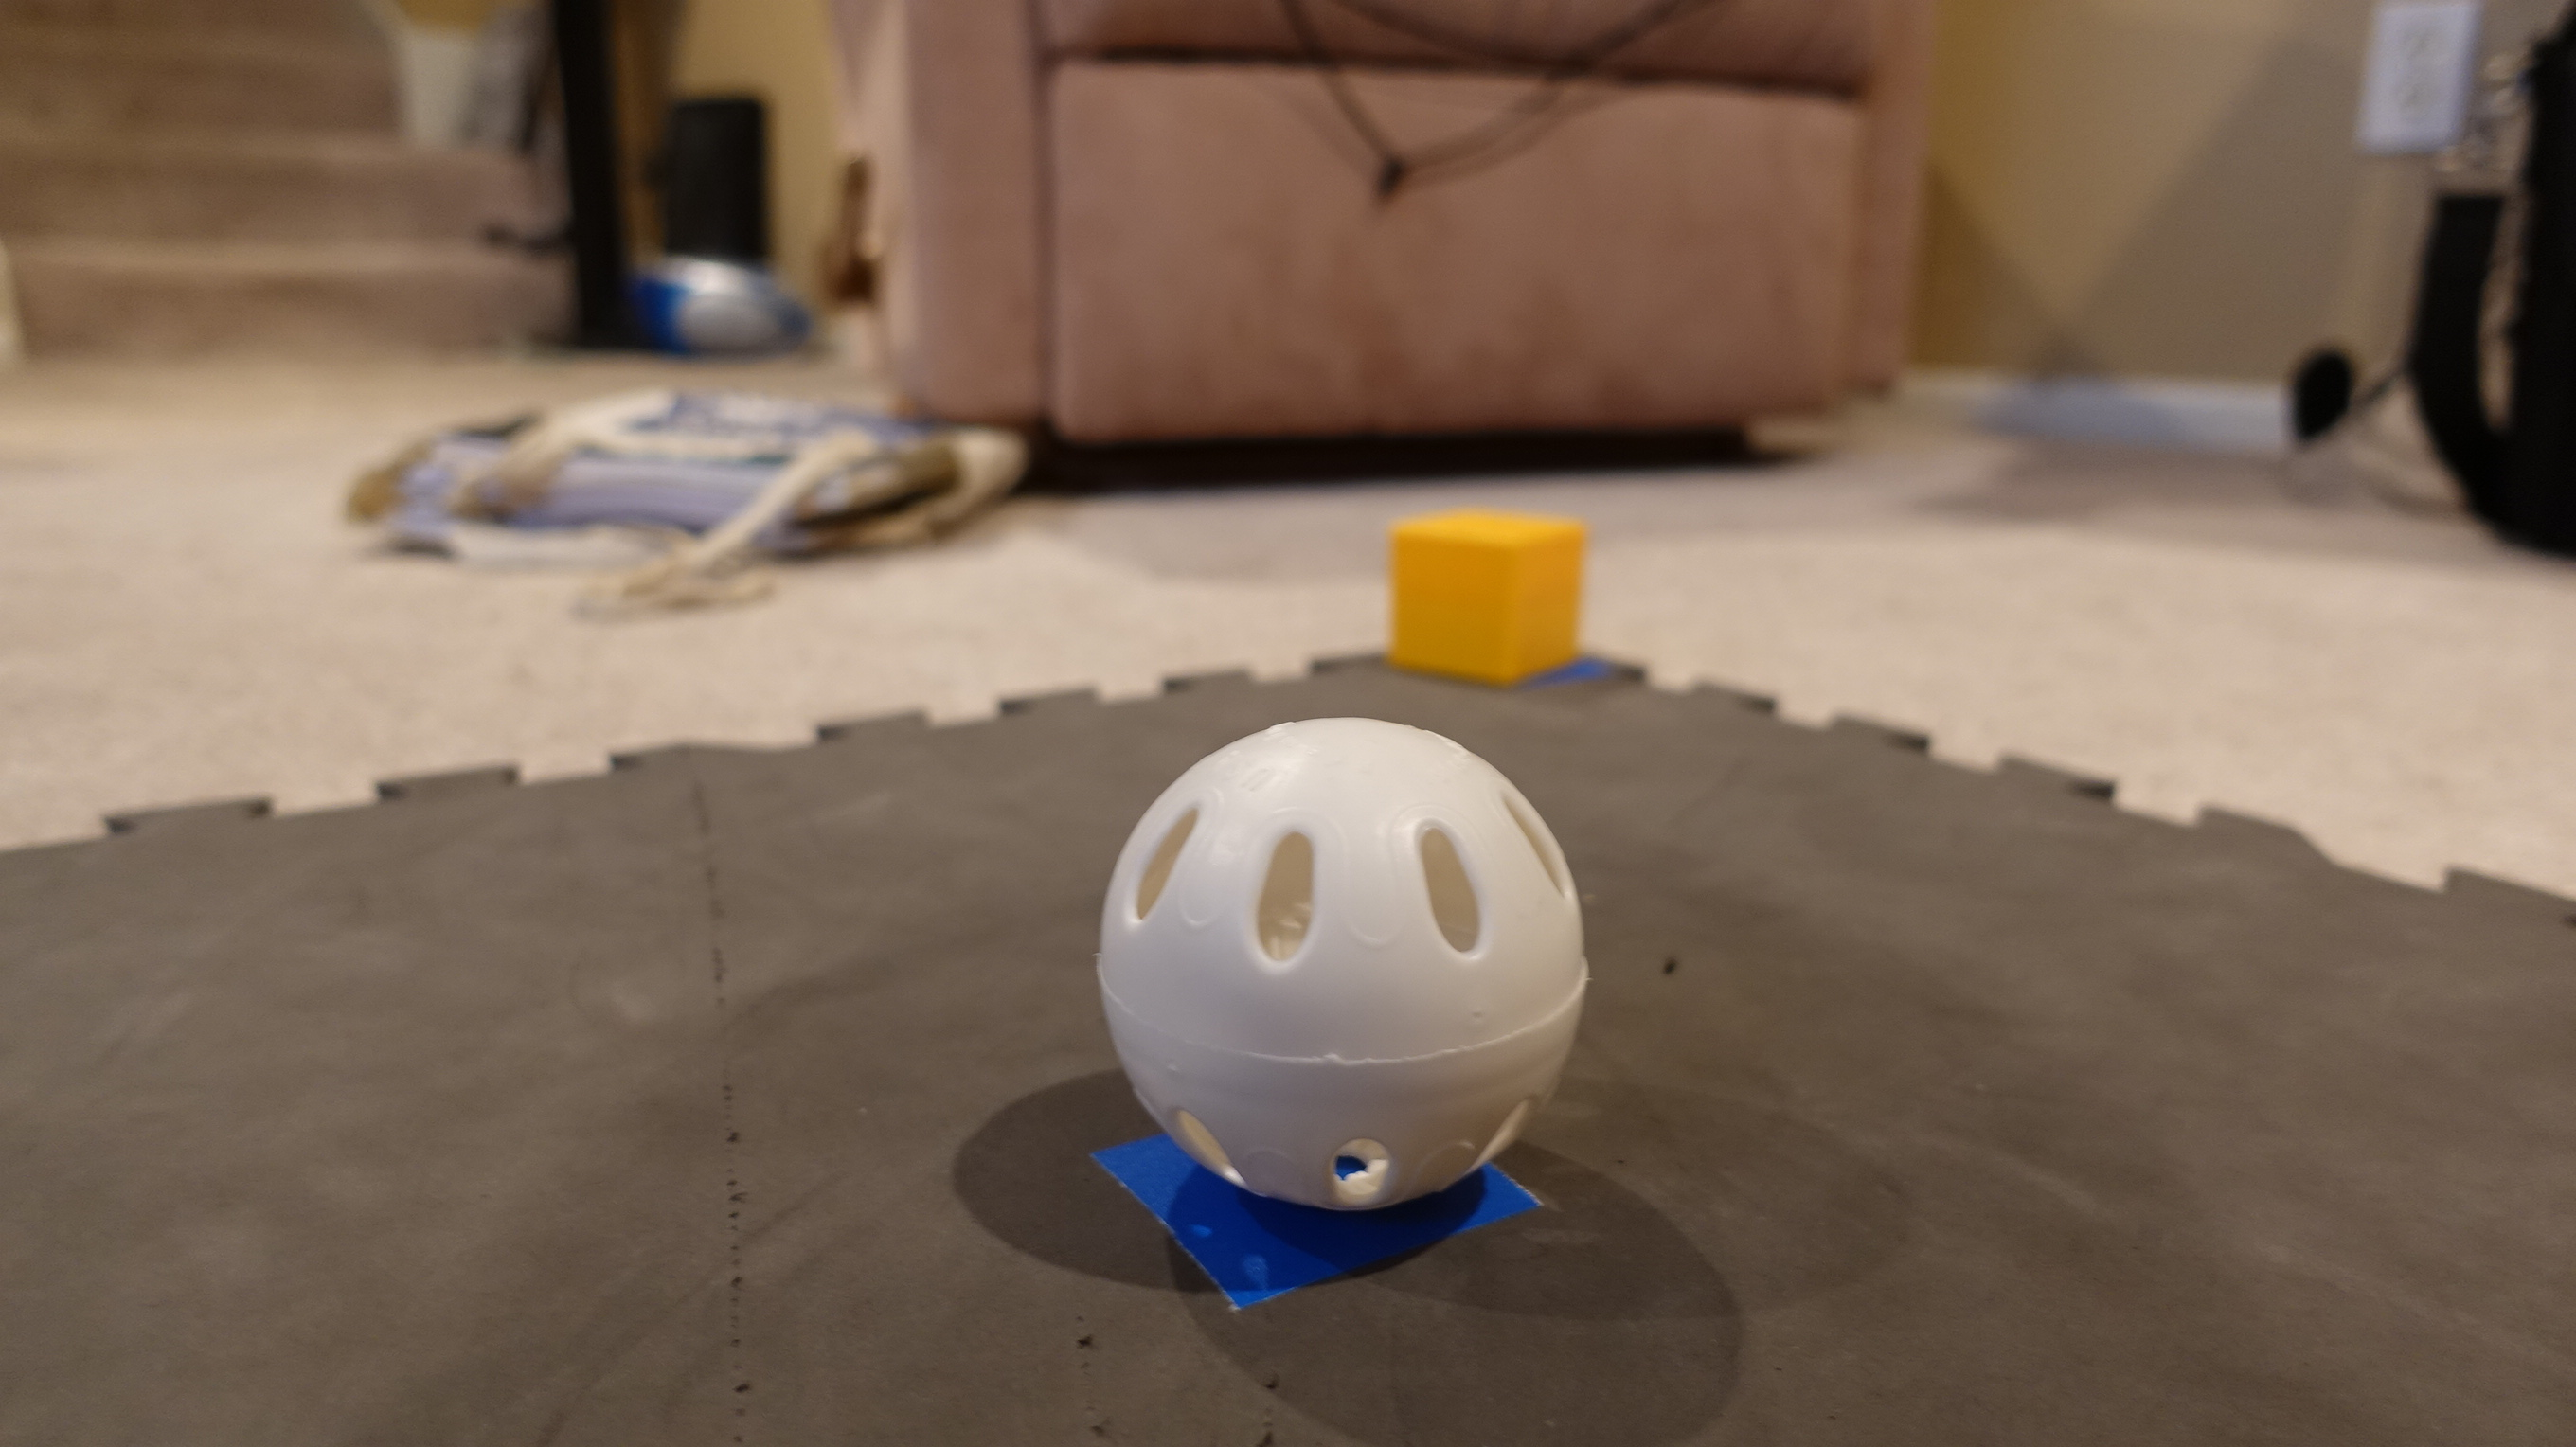gold: (1378, 499, 1592, 688)
silver: (1085, 715, 1596, 1217)
